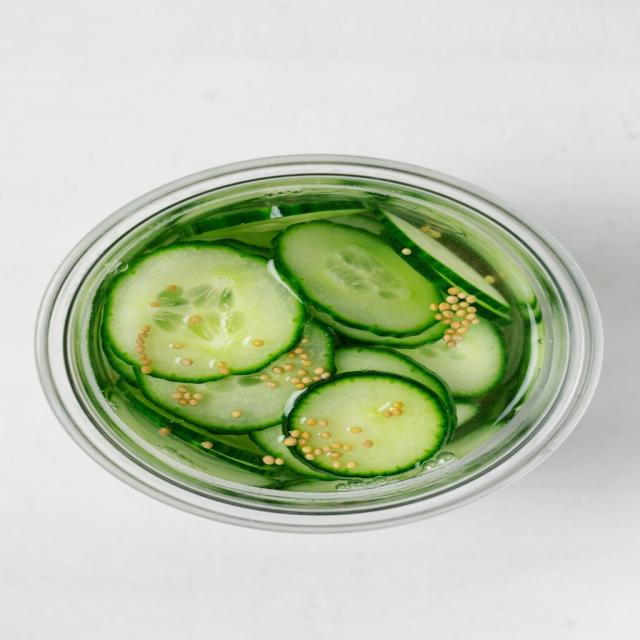Pickle: (103, 244, 306, 382), (135, 320, 336, 434), (274, 220, 442, 337), (285, 371, 454, 478), (375, 210, 512, 324), (336, 345, 456, 419), (398, 318, 506, 399)
